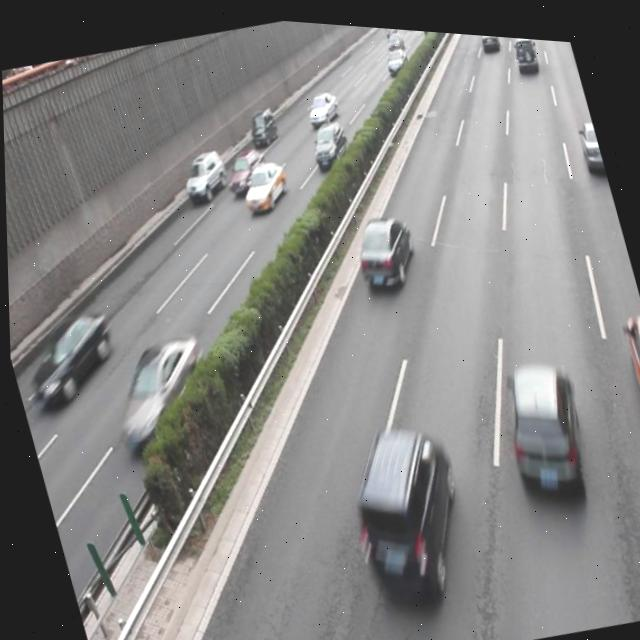car: (487, 346, 595, 502), (95, 325, 220, 458), (12, 300, 124, 414), (346, 203, 419, 289), (233, 151, 291, 214), (613, 297, 640, 429), (175, 143, 230, 202), (219, 141, 270, 194), (305, 114, 351, 168), (572, 109, 606, 169), (302, 82, 340, 123)
truck: (330, 408, 476, 607), (242, 100, 280, 147)
